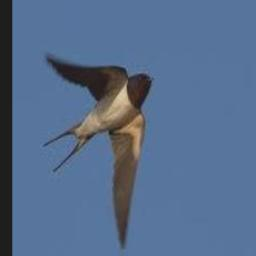Swallow: (42, 54, 152, 251)
